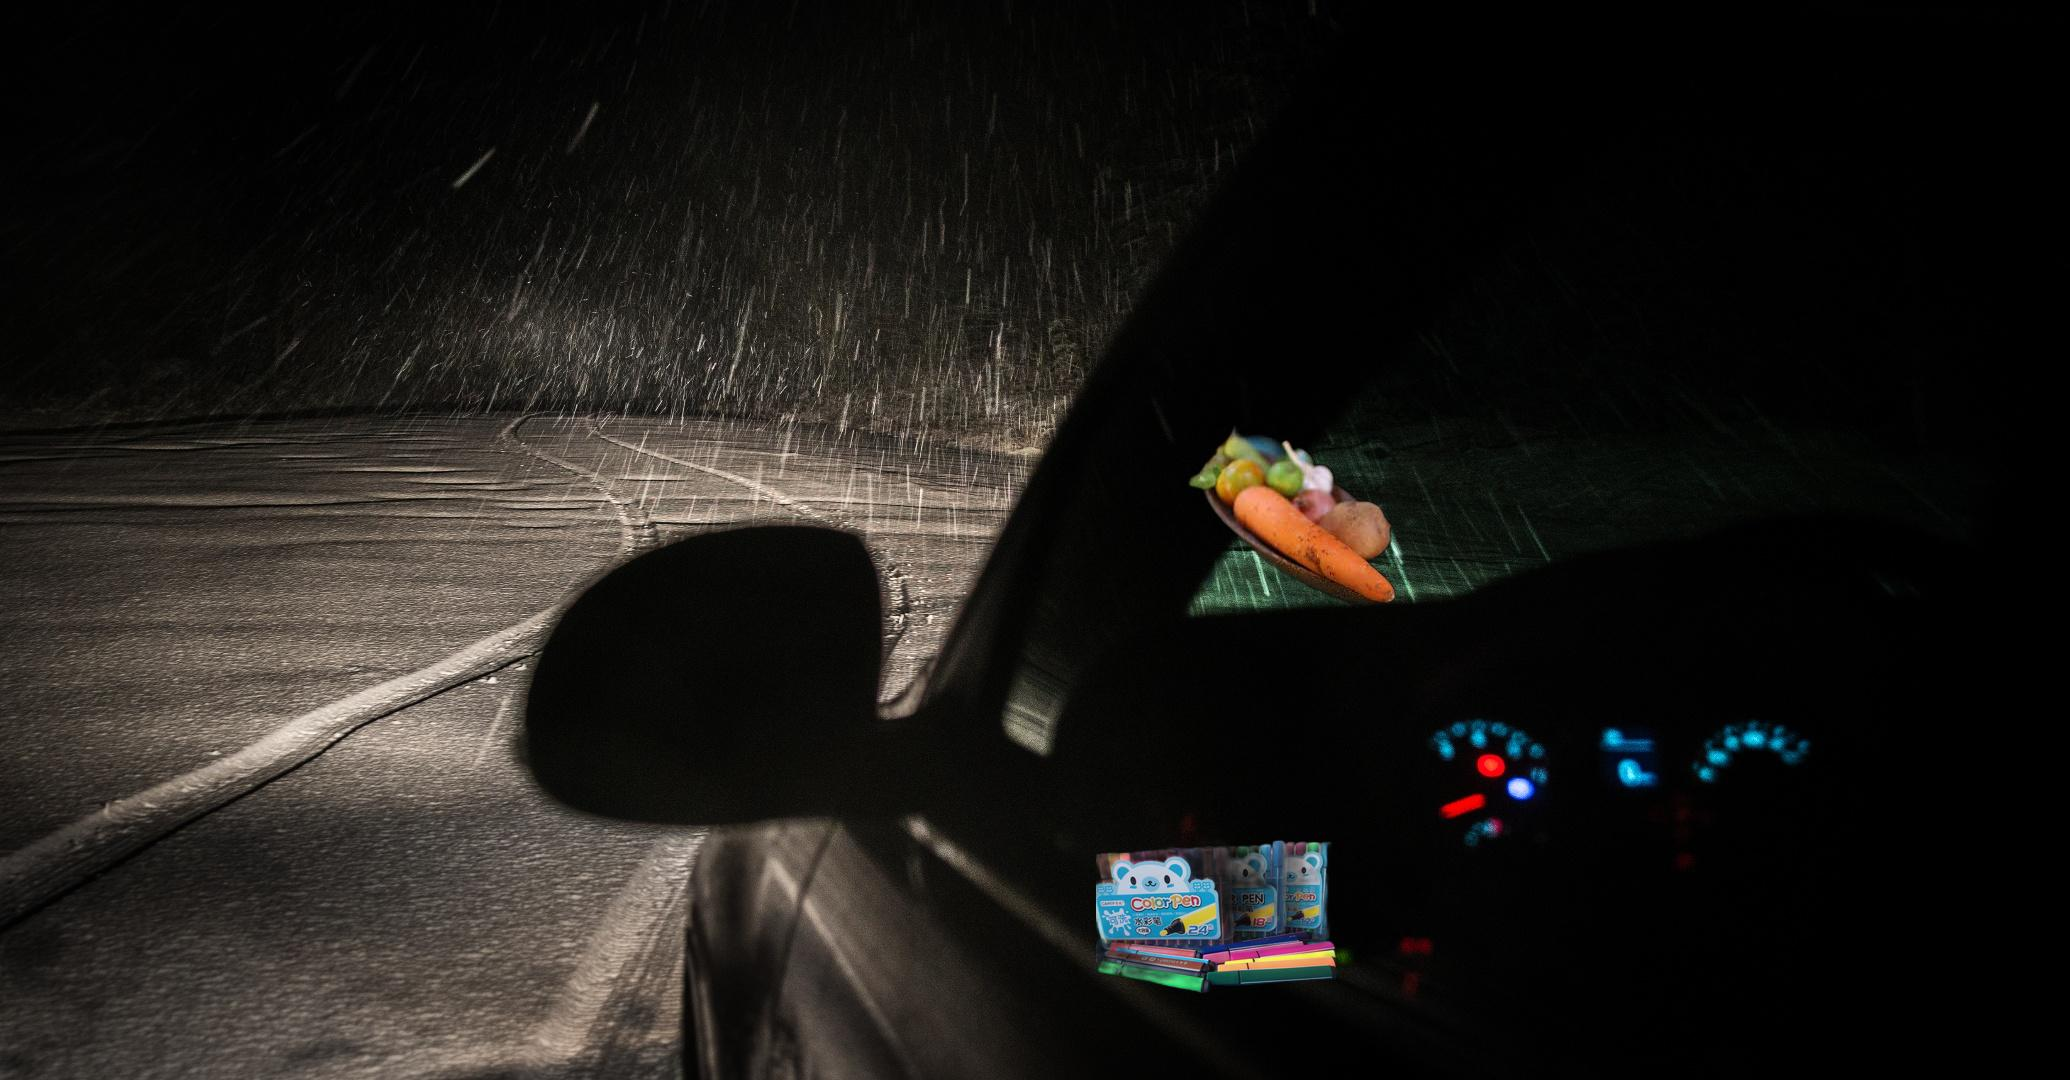biological: (1168, 422, 1443, 605)
penholder: (1097, 816, 1336, 997)
